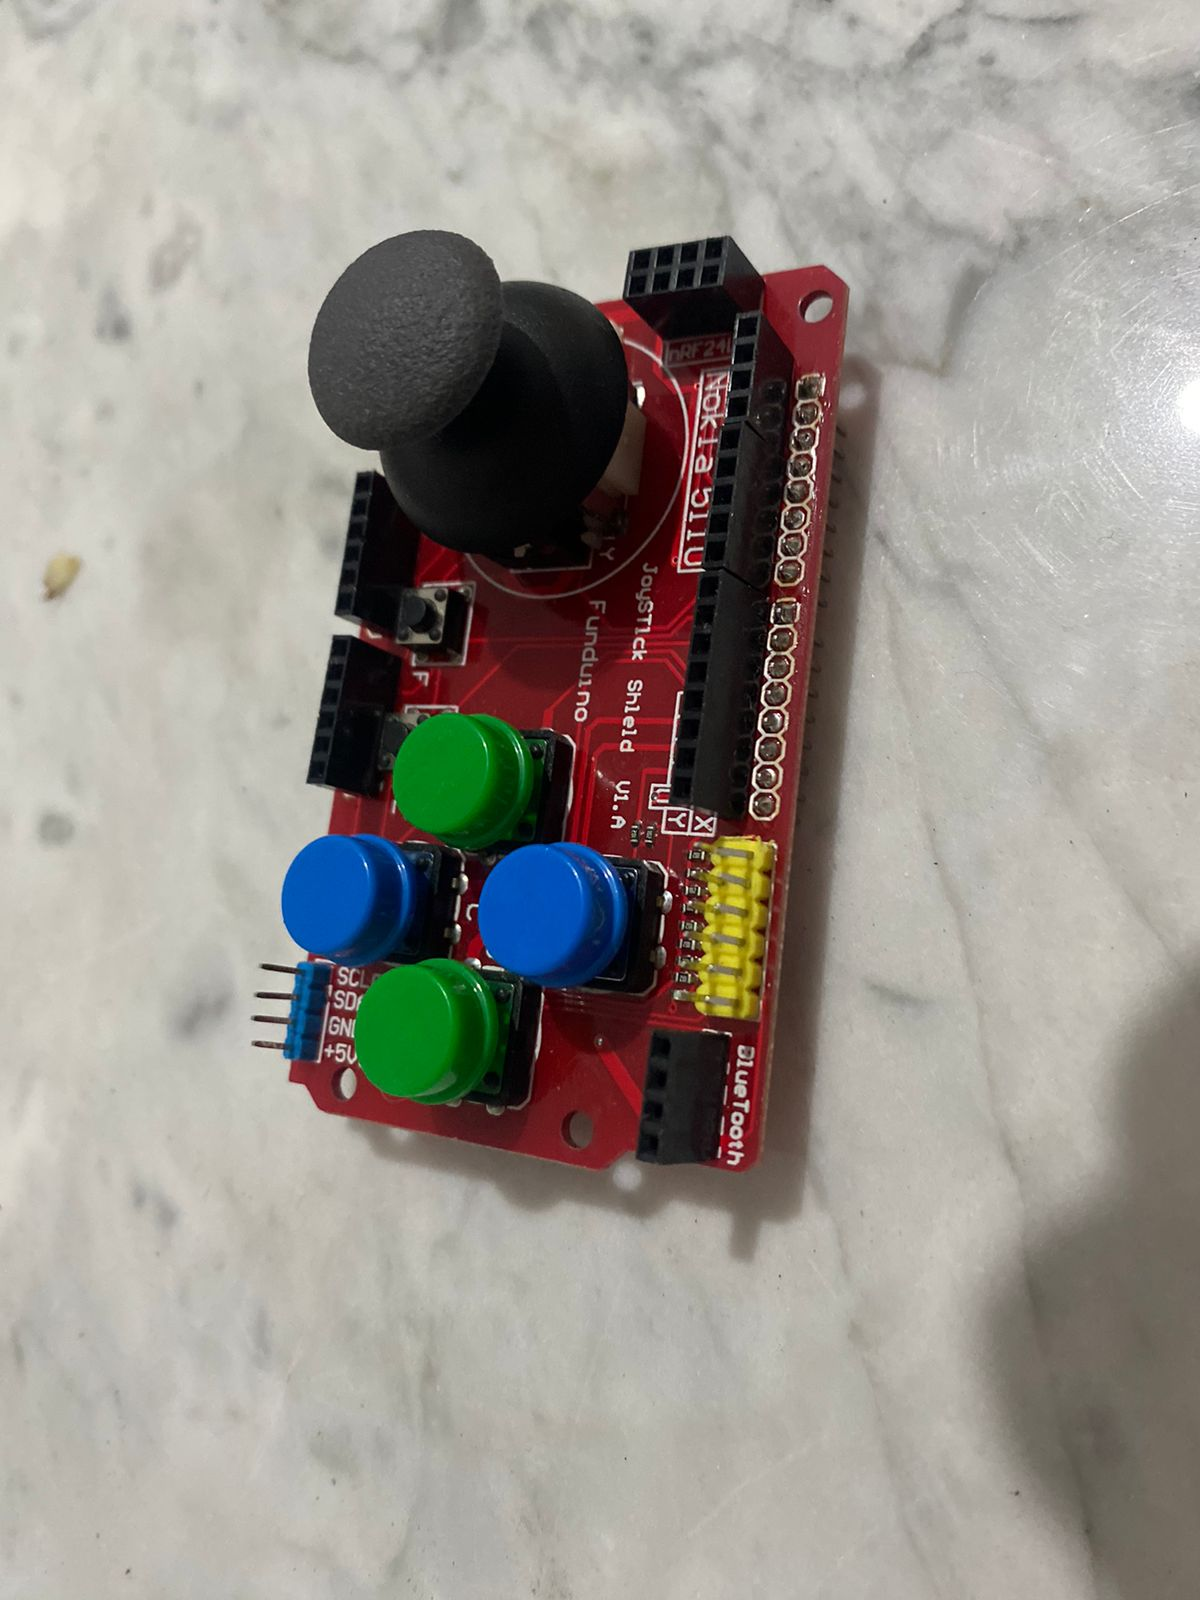Clavier-Joystick: (245, 229, 861, 1221)
